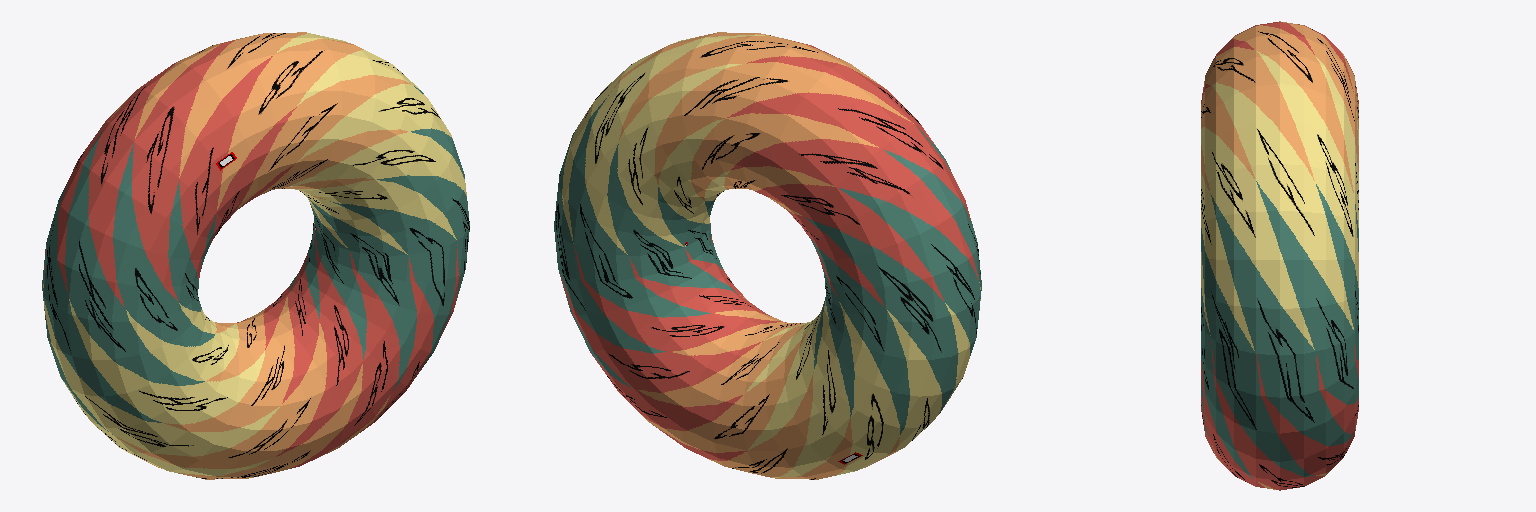
3 views of the same model, side by side, from view 1: azimuth 30°, elevation 25°; view 2: azimuth 150°, elevation 25°; view 3: azimuth 270°, elevation 25° (orthographic).
Bounding box in the file's own units: 3 × 2.98 × 1.
1 materials, 1 textured.